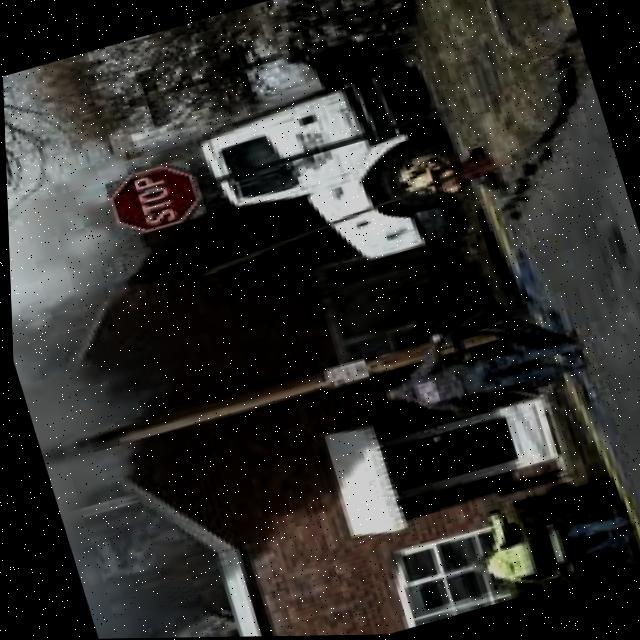Smoke: (8, 261, 230, 640)
